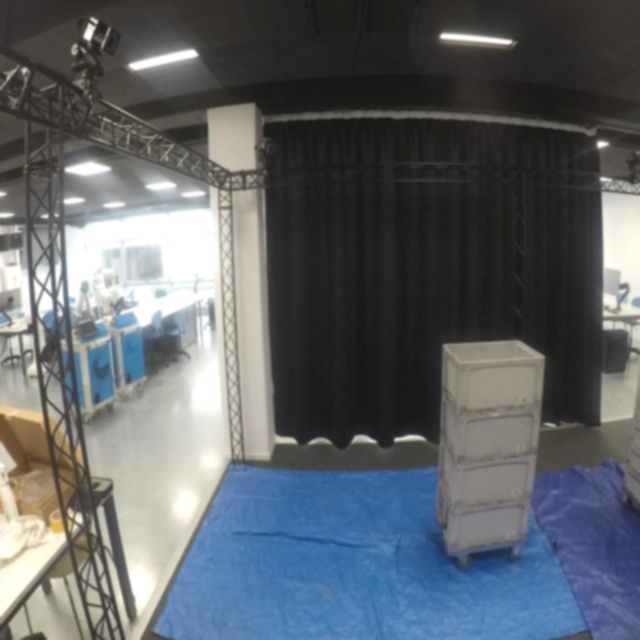Box4G: (441, 334, 548, 416), (431, 394, 549, 464), (434, 437, 542, 513), (430, 484, 534, 556)
